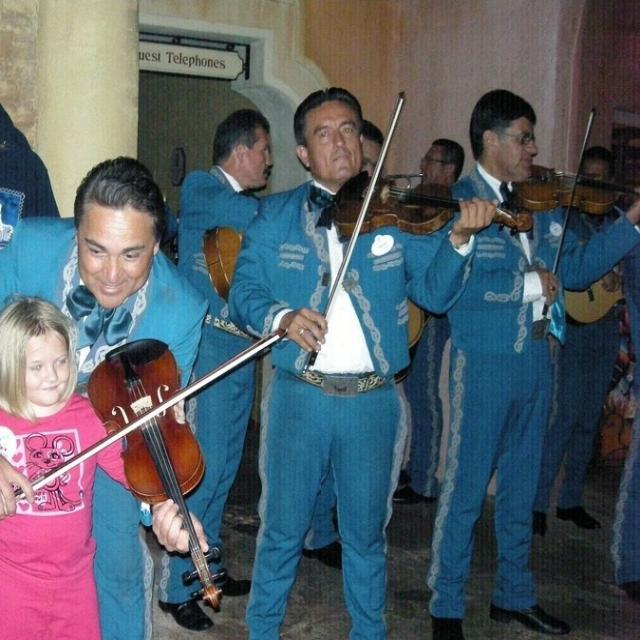guitar: (558, 255, 640, 323)
violin: (83, 338, 228, 613), (330, 174, 533, 236), (509, 163, 640, 212)
